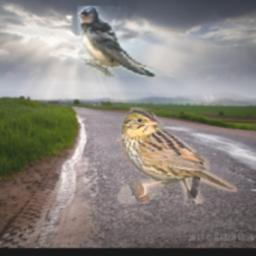Sparrow: (118, 107, 238, 204)
Swallow: (77, 6, 173, 77)
